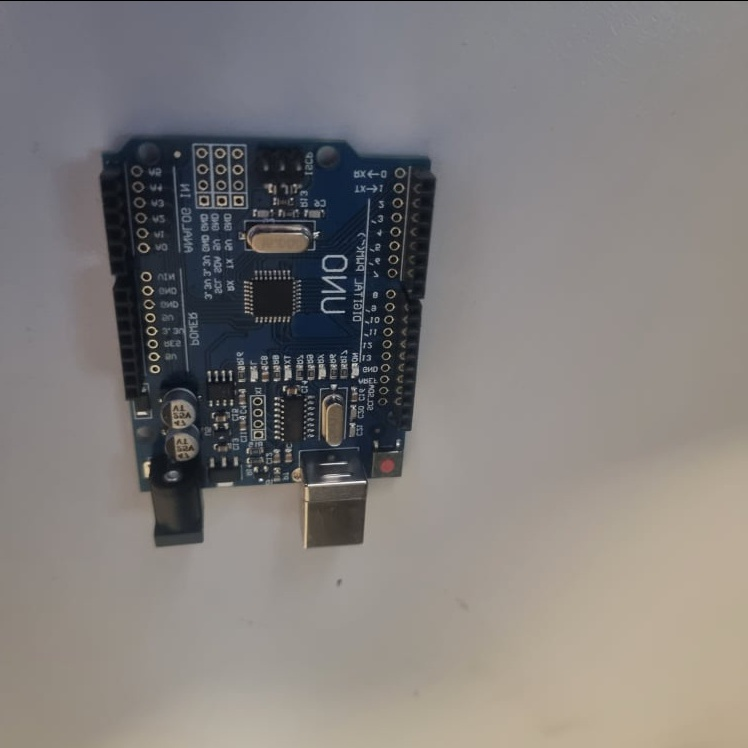UNO R3: (97, 126, 439, 552)
